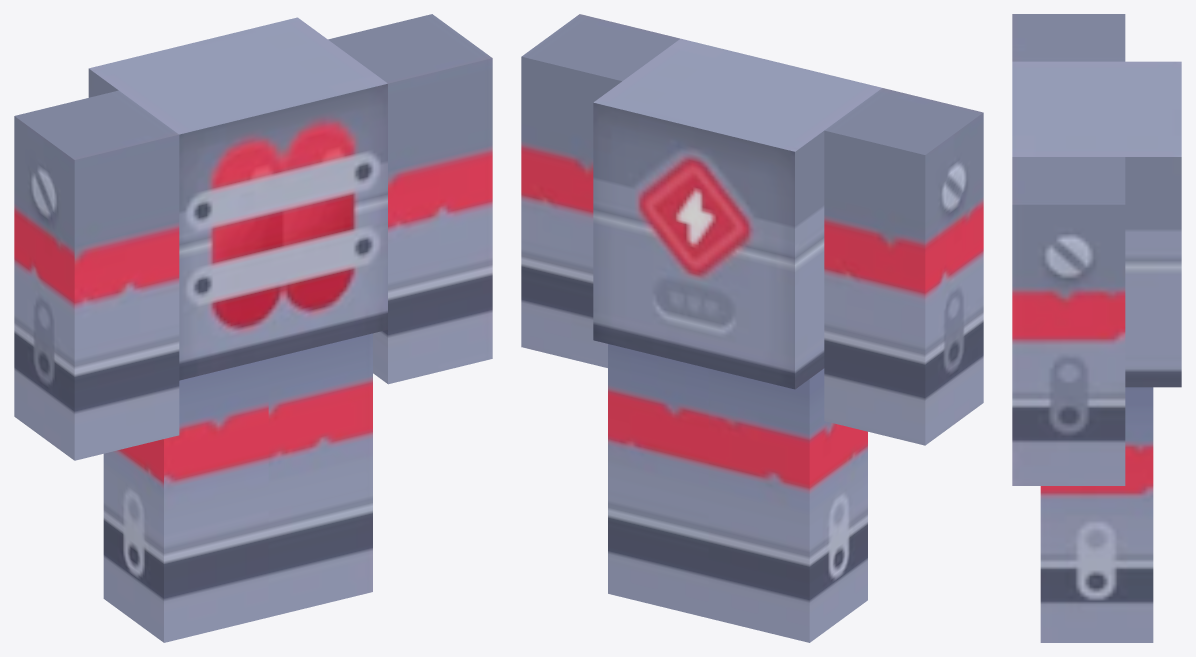
Rendered from blocky-g.glb.
The picture shows the model from 3 angles, left to right: view 1: azimuth 30°, elevation 25°; view 2: azimuth 150°, elevation 25°; view 3: azimuth 270°, elevation 25°; orthographic projection. The views are drawn at different scales.
Visible parts, largest first — view 1: torso, arm-left, arm-right, leg-left, leg-right; view 2: torso, arm-left, leg-left, arm-right, leg-right; view 3: arm-right, torso, leg-right, arm-left.
Part boxes in pixels (x1=…): torso: x1=88, y1=17, x2=387, y2=380; arm-left: x1=14, y1=90, x2=179, y2=460; arm-right: x1=328, y1=14, x2=492, y2=384; leg-left: x1=103, y1=359, x2=268, y2=642; leg-right: x1=268, y1=333, x2=372, y2=617; torso: x1=593, y1=38, x2=881, y2=389; arm-left: x1=824, y1=88, x2=983, y2=445; leg-left: x1=708, y1=368, x2=867, y2=642; arm-right: x1=521, y1=14, x2=679, y2=367; leg-right: x1=608, y1=344, x2=708, y2=618; arm-right: x1=1012, y1=157, x2=1125, y2=485; torso: x1=1012, y1=61, x2=1181, y2=387; leg-right: x1=1040, y1=387, x2=1153, y2=642; arm-left: x1=1012, y1=14, x2=1125, y2=61.
Bounding box in the file's own units: 1.21 × 1.44 × 0.4537.
Materials: 1 (1 with a texture image).
